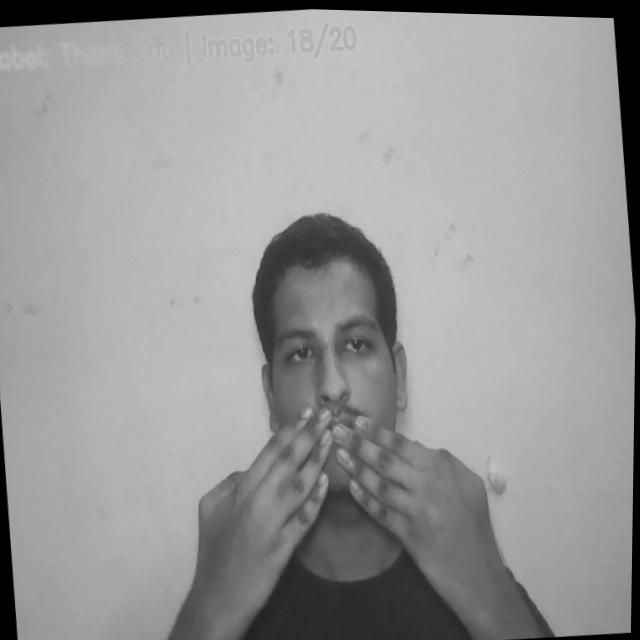Thank You: (185, 387, 501, 633)
